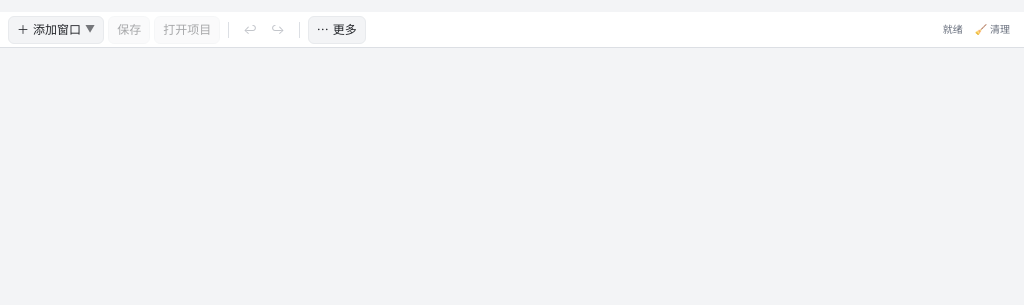
it: BlueprintToolbar › opens the add-window menu and shows all catalog groups
Click the button with test id "add-node-menu" at {"x": 56, "y": 30}, box [8,16,104,44]
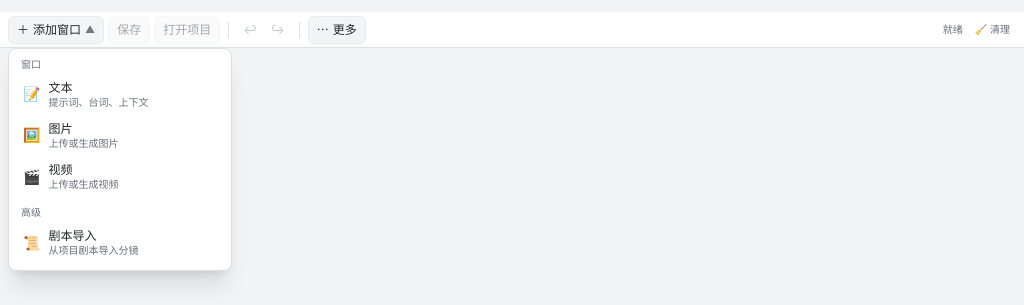
Check: the text "窗口" is shown, box [21,58,41,70]
Check: the text "文本" is shown, box [48,80,72,94]
